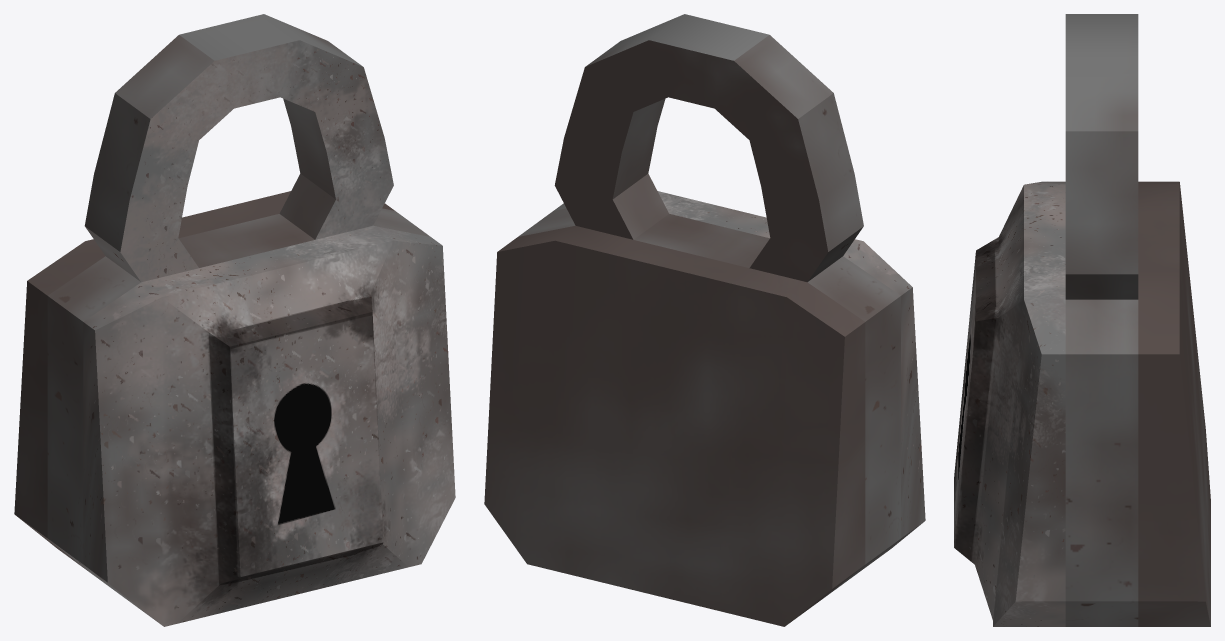
File: lock.fbx
3 views of the same model, side by side, from view 1: azimuth 30°, elevation 25°; view 2: azimuth 150°, elevation 25°; view 3: azimuth 270°, elevation 25° (orthographic).
Parts seen in each view (by area): view 1: Mesh; view 2: Mesh; view 3: Mesh.
Boxes of the visible parts, <box> form: Mesh: <box>14,14,455,626</box>; Mesh: <box>484,14,925,626</box>; Mesh: <box>954,14,1210,626</box>.
Size of the model in its own units: 5.91 by 8.42 by 3.71.
